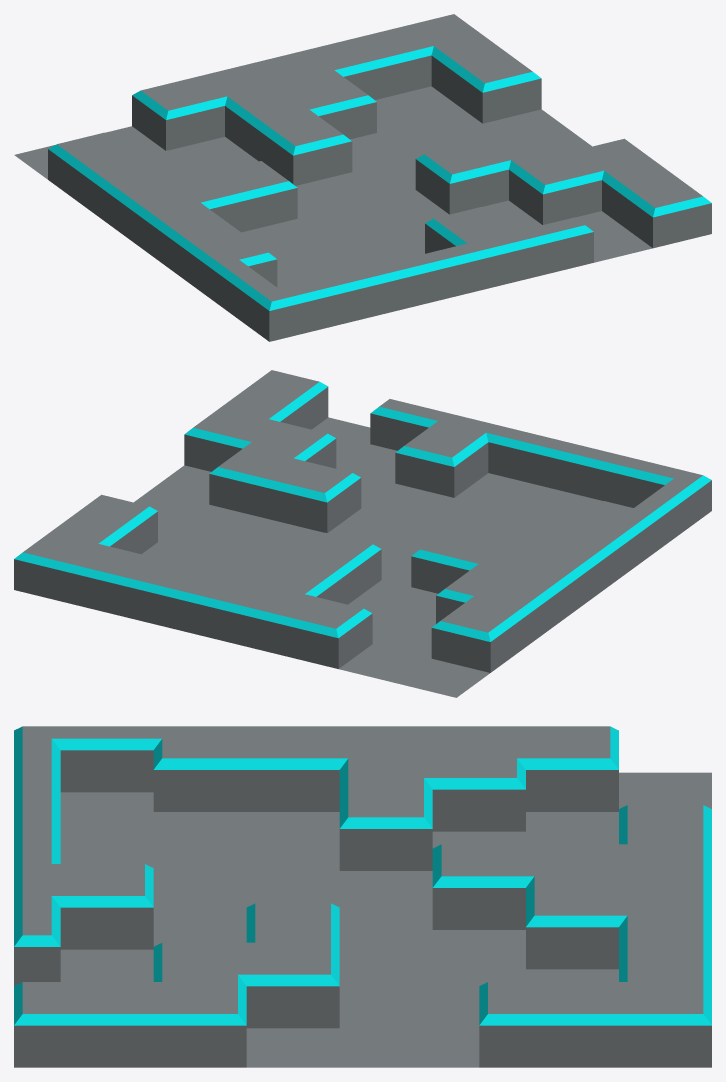
The model's file is top.fbx.
The picture shows the model from 3 angles, top to bottom: view 1: azimuth 30°, elevation 25°; view 2: azimuth 150°, elevation 25°; view 3: azimuth 270°, elevation 25°; orthographic projection. The views are drawn at different scales.
Visible parts, largest first — view 1: pCube5; view 2: pCube5; view 3: pCube5.
Boxes of the visible parts, box(x1,y1,x2,y2) form: pCube5: box(14, 14, 711, 341); pCube5: box(14, 370, 711, 697); pCube5: box(14, 726, 711, 1067).
Size of the model in its own units: 240 by 240 by 19.
